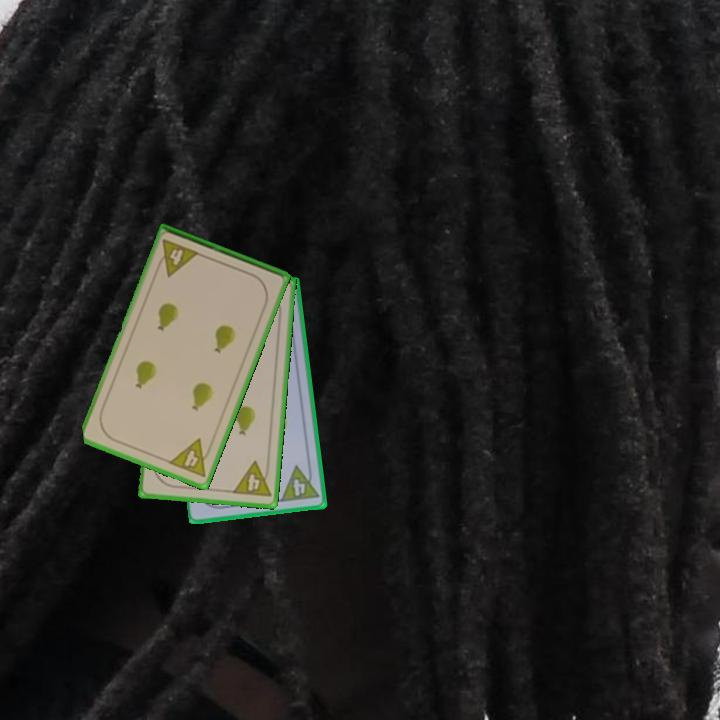4p: (165, 435, 216, 480), (152, 236, 202, 279), (277, 461, 322, 505), (229, 458, 274, 500)
